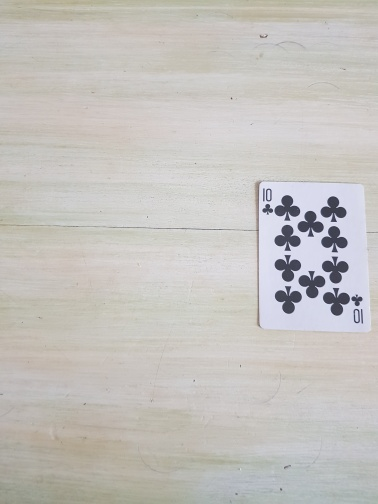ten: (255, 181, 373, 334)
